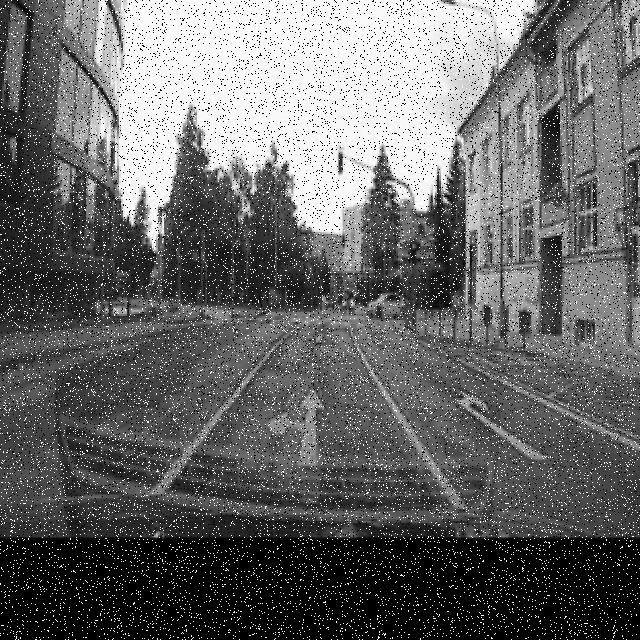clear-road: (357, 327, 640, 536), (57, 320, 286, 443), (208, 324, 413, 460)
